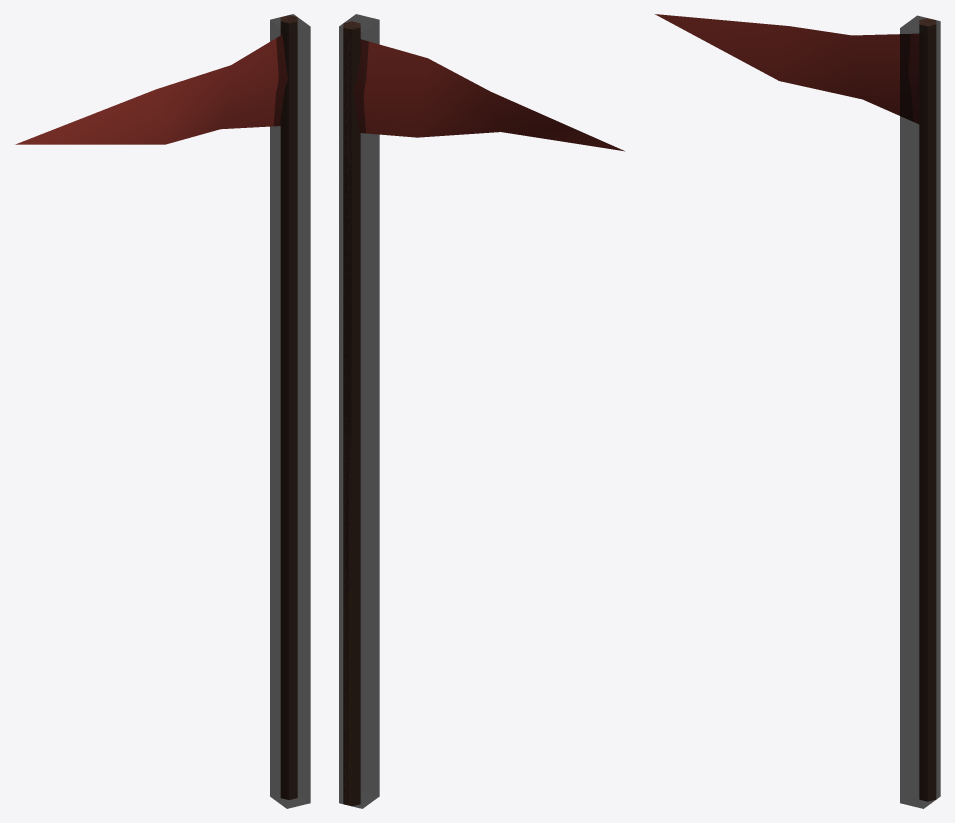
File: Flag.fbx
3 views of the same model, side by side, from view 1: azimuth 30°, elevation 25°; view 2: azimuth 150°, elevation 25°; view 3: azimuth 330°, elevation 25° (orthographic).
Visible parts, largest first — view 1: Flag_BBox, Flag; view 2: Flag_BBox, Flag; view 3: Flag_BBox, Flag.
Part boxes in pixels (bbox=[...]): Flag_BBox: bbox=[270, 14, 310, 808]; Flag: bbox=[15, 15, 297, 799]; Flag_BBox: bbox=[339, 14, 379, 808]; Flag: bbox=[343, 21, 624, 806]; Flag_BBox: bbox=[900, 15, 940, 808]; Flag: bbox=[655, 14, 936, 801].
Bounding box in the file's own units: 2.05 × 5.37 × 0.2142.
2 materials, 1 textured.
